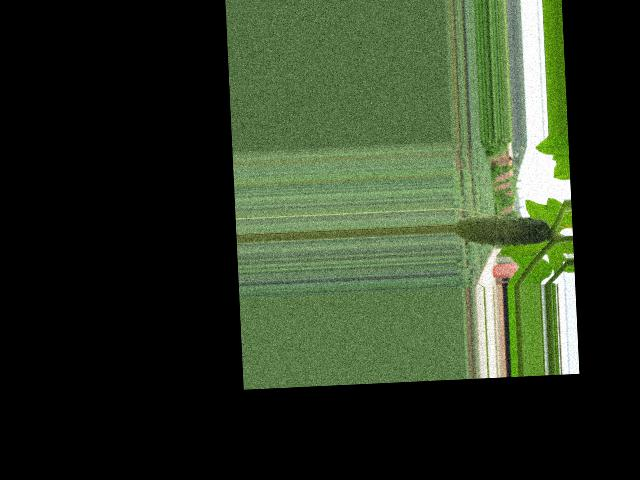cucumber: (453, 212, 550, 248)
